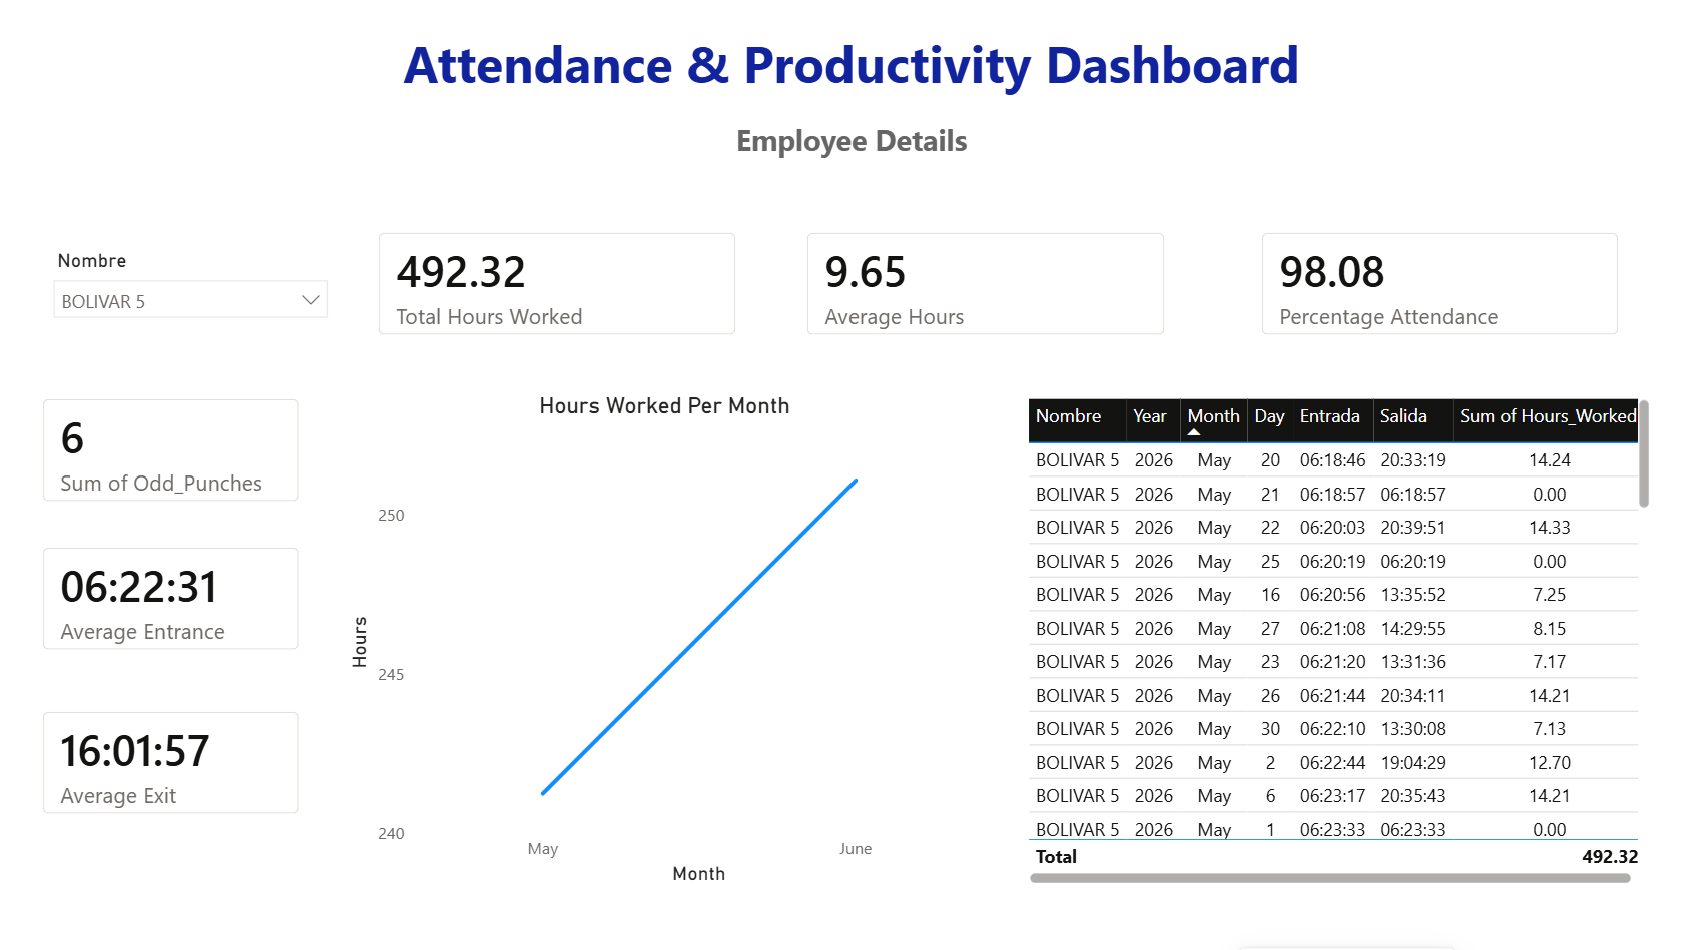

Layout of this report page (visuals, bound fields, positions):
{"tool":"powerbi","page":{"name":"Employee Details","canvas":[1280,720],"ordinal":4},"visuals":[{"type":"slicer","fields":{"Values":["public vw_employee_summary.Nombre"]},"box":[35.7,186.5,224.9,86.4],"z":0},{"type":"cardVisual","fields":{"Data":["Sum(public vw_employee_summary.Total_Hours)"]},"box":[271.5,163.2,300,110],"z":1000},{"type":"cardVisual","fields":{"Data":["Avg(public vw_employee_summary.Average_Hours)"]},"box":[591.1,163.2,300,110],"z":2000},{"type":"cardVisual","fields":{"Data":["Avg(public vw_attendance_percentage.percentage_attendance)"]},"box":[929.8,163.2,300,110],"z":3000},{"type":"cardVisual","fields":{"Data":["Sum(public vw_employee_summary.Odd_Punches)"]},"box":[20.6,286.6,225,110],"z":4000},{"type":"lineChart","title":"Hours by month for selected employee","fields":{"Y":["Sum(public vw_employee_summary.Total_Hours)"],"Category":["public vw_employee_summary.Month_Name"]},"box":[260.6,299,481.4,371.7],"z":5000},{"type":"tableEx","fields":{"Values":["public vw_attendance_report.Nombre","public vw_attendance_report.Fecha.Variation.Date Hierarchy.Year","public vw_attendance_report.Fecha.Variation.Date Hierarchy.Month","public vw_attendance_report.Fecha.Variation.Date Hierarchy.Day","public vw_attendance_report.Entrada","public vw_attendance_report.Salida","Sum(public vw_attendance_report.Hours_Worked)"]},"box":[766.6,299,474.5,371.7],"z":6000},{"type":"cardVisual","fields":{"Data":["Min(public vw_employee_summary.Average_Entrance)"]},"box":[20.6,396.3,225,110],"z":7000},{"type":"cardVisual","fields":{"Data":["Min(public vw_employee_summary.Average_Exit)"]},"box":[20.6,519.8,225,110],"z":8000},{"type":"textbox","box":[51.6,22.7,1178.4,94],"z":9000}]}

Visuals, with their boxes in screenshot pixels (x1, y1, x2, y2), scaled from the page's 1280x720 canvas onto the 1696x950 screenshot:
slicer - public vw_employee_summary.Nombre: select_region(47, 246, 345, 360)
cardVisual - Sum(public vw_employee_summary.Total_Hours): select_region(360, 215, 757, 360)
cardVisual - Avg(public vw_employee_summary.Average_Hours): select_region(783, 215, 1181, 360)
cardVisual - Avg(public vw_attendance_percentage.percentage_attendance): select_region(1232, 215, 1629, 360)
cardVisual - Sum(public vw_employee_summary.Odd_Punches): select_region(27, 378, 325, 523)
"Hours by month for selected employee" lineChart: select_region(345, 395, 983, 885)
tableEx - public vw_attendance_report.Nombre x public vw_attendance_report.Fecha.Variation.Date Hierarchy.Year: select_region(1016, 395, 1644, 885)
cardVisual - Min(public vw_employee_summary.Average_Entrance): select_region(27, 523, 325, 668)
cardVisual - Min(public vw_employee_summary.Average_Exit): select_region(27, 686, 325, 831)
textbox: select_region(68, 30, 1630, 154)
